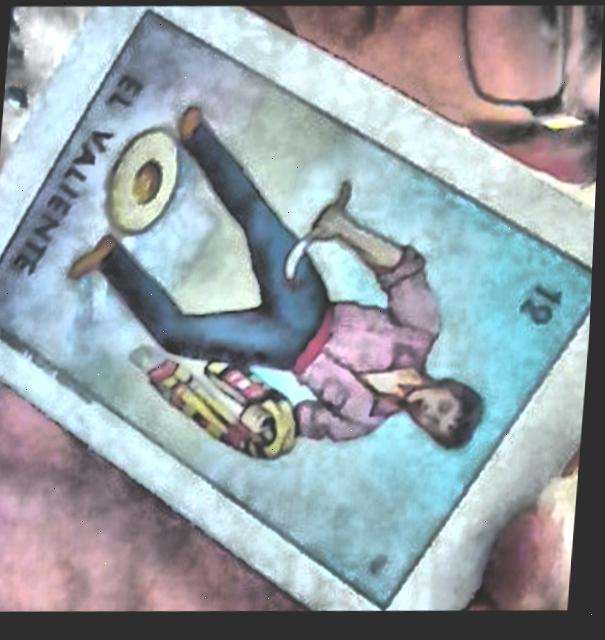El Valiente: (0, 13, 595, 613)
